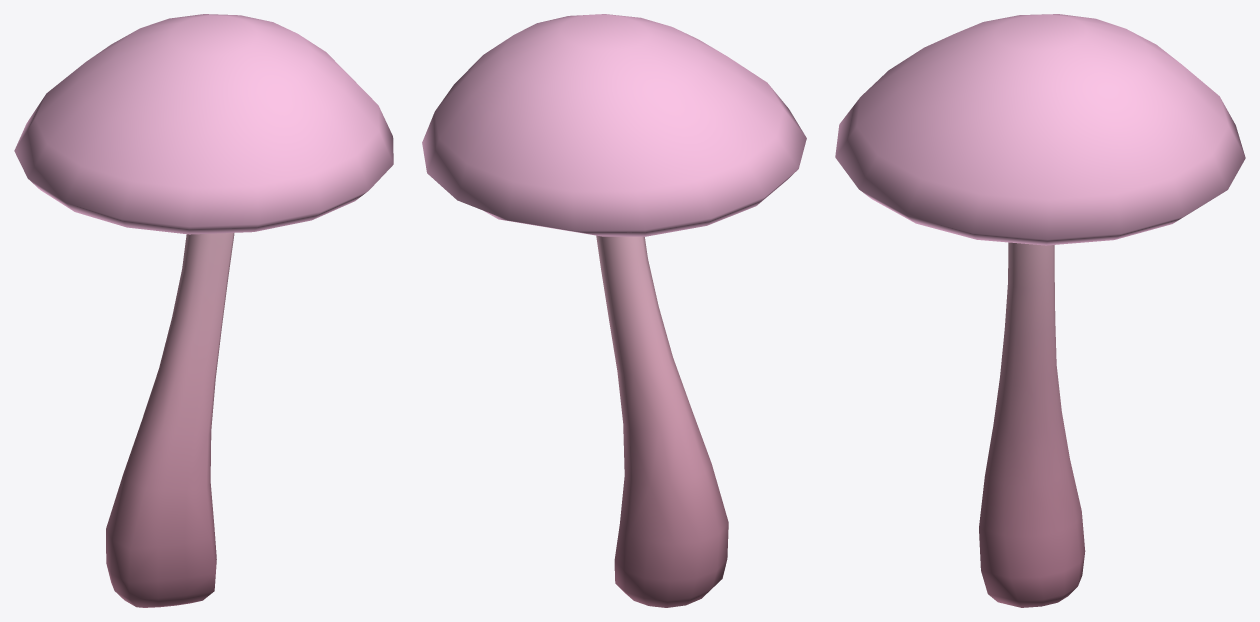
The model's file is Mushroom_Separated.fbx.
3 views of the same model, side by side, from view 1: azimuth 30°, elevation 25°; view 2: azimuth 150°, elevation 25°; view 3: azimuth 270°, elevation 25° (orthographic). The views are drawn at different scales.
Visible parts, largest first — view 1: Cap, Stem; view 2: Cap, Stem; view 3: Cap, Stem.
Part boxes in pixels (x1,y1,x2,y2): Cap: [14, 14, 393, 234]; Stem: [106, 233, 234, 607]; Cap: [422, 14, 806, 236]; Stem: [596, 235, 728, 607]; Cap: [835, 14, 1245, 245]; Stem: [979, 242, 1085, 607].
Bounding box in the file's own units: 13.46 × 21.46 × 13.46.
